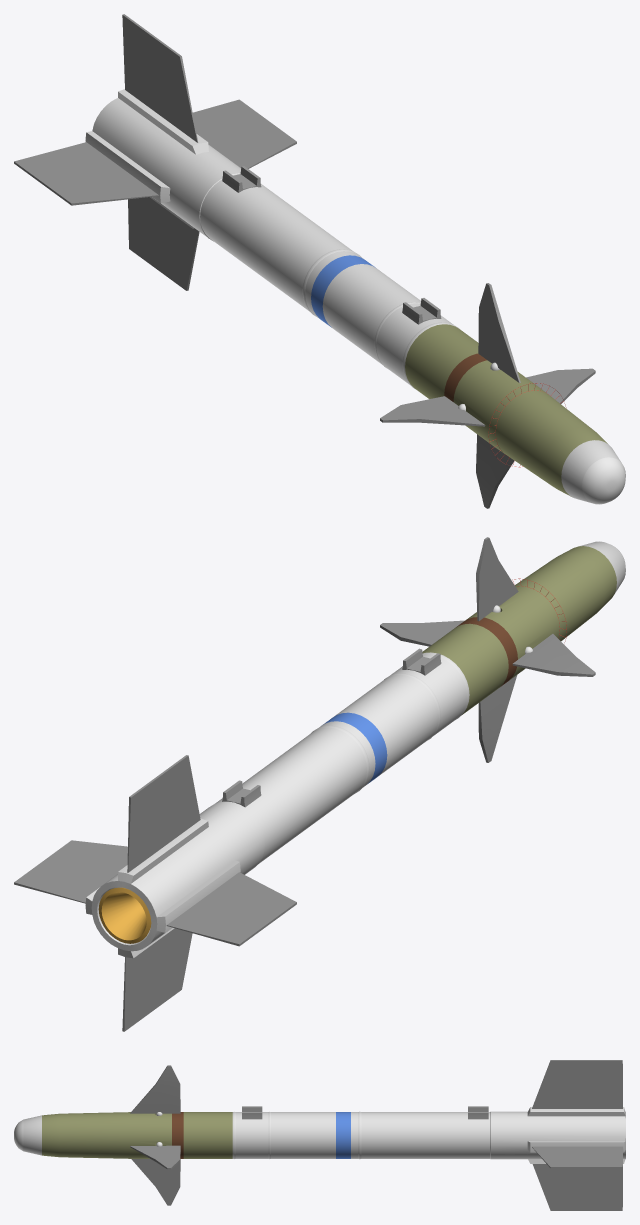
File: missile.fbx
3 renders of one model, top to bottom at view 1: azimuth 30°, elevation 25°; view 2: azimuth 150°, elevation 25°; view 3: azimuth 270°, elevation 25°, orthographic. The views are drawn at different scales.
Parts seen in each view (by area): view 1: Cylinder, Cylinder.001, Cylinder.006, Cylinder.004, Cylinder.005, Cylinder.007; view 2: Cylinder, Cylinder.001, Cylinder.003, Cylinder.006, Cylinder.004, Cylinder.005, Cylinder.007; view 3: Cylinder, Cylinder.001, Cylinder.006, Cylinder.005, Cylinder.007.
Part boxes in pixels (x1,y1,x2,y2): Cylinder: [85, 89, 625, 504]; Cylinder.001: [14, 14, 296, 290]; Cylinder.006: [478, 283, 520, 382]; Cylinder.004: [380, 396, 485, 426]; Cylinder.005: [476, 434, 514, 508]; Cylinder.007: [526, 368, 595, 403]; Cylinder: [85, 541, 625, 958]; Cylinder.001: [14, 755, 296, 1031]; Cylinder.003: [98, 887, 151, 943]; Cylinder.006: [476, 537, 518, 621]; Cylinder.004: [512, 634, 595, 676]; Cylinder.005: [478, 675, 517, 762]; Cylinder.007: [380, 620, 464, 646]; Cylinder: [14, 1106, 625, 1163]; Cylinder.001: [532, 1060, 622, 1210]; Cylinder.006: [130, 1065, 180, 1113]; Cylinder.005: [131, 1159, 180, 1205]; Cylinder.007: [130, 1145, 180, 1169].
Size of the model in its own units: 413 by 413 by 1545.
